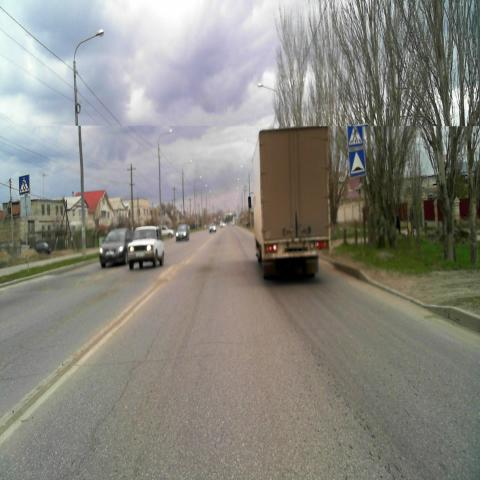5_20: (348, 149, 366, 175)
